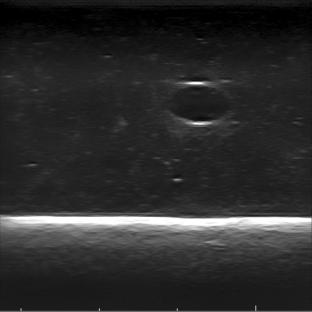vessel: (164, 80, 233, 126)
